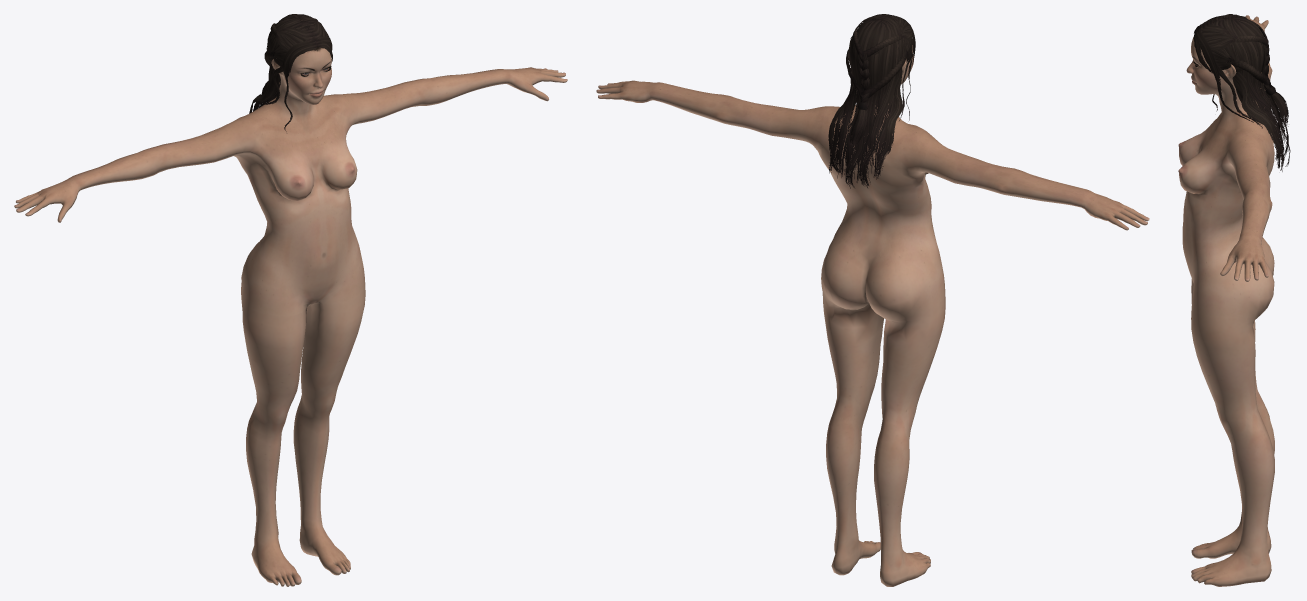
Rendered from büyücü (2).fbx.
The picture shows the model from 3 angles, left to right: view 1: azimuth 30°, elevation 25°; view 2: azimuth 150°, elevation 25°; view 3: azimuth 270°, elevation 25°; orthographic projection.
Parts seen in each view (by area): view 1: buyucu; view 2: buyucu; view 3: buyucu.
Part boxes in pixels (x1=…): buyucu: x1=14, y1=14, x2=567, y2=586; buyucu: x1=596, y1=14, x2=1149, y2=586; buyucu: x1=1178, y1=14, x2=1290, y2=586.
Size of the model in its own units: 177 by 170 by 31.9.
